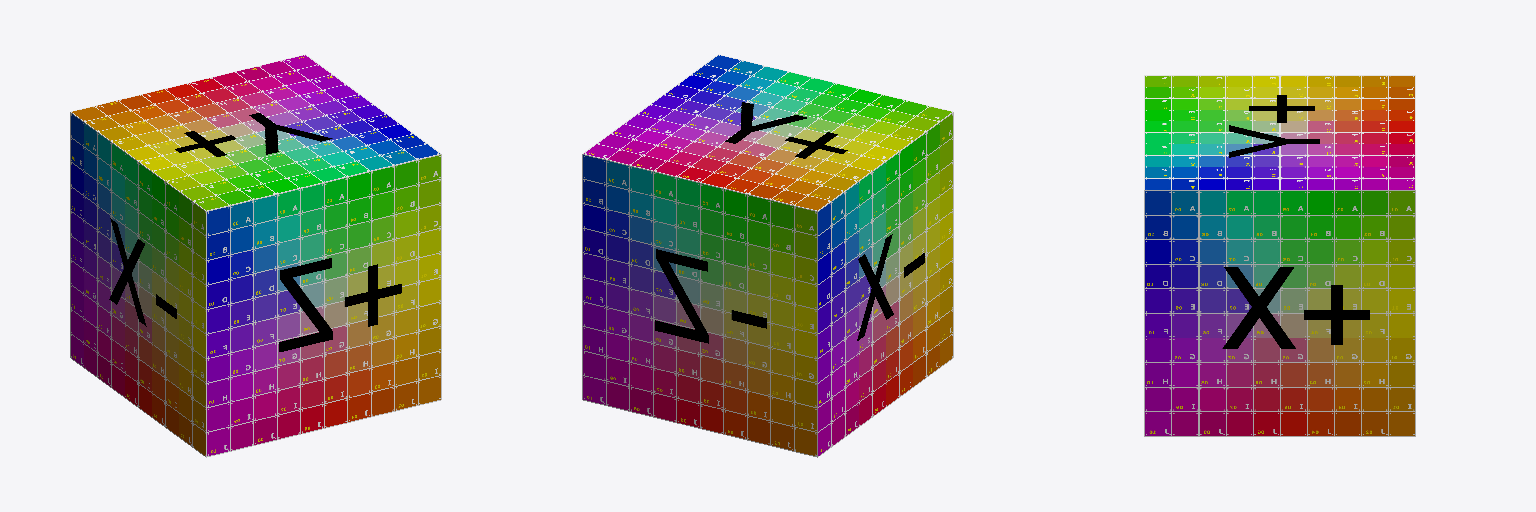
The picture shows the model from 3 angles: view 1: azimuth 30°, elevation 25°; view 2: azimuth 150°, elevation 25°; view 3: azimuth 270°, elevation 25°; orthographic projection.
Parts seen in each view (by area): view 1: BasicCube; view 2: BasicCube; view 3: BasicCube.
Boxes of the visible parts, box(x1,y1,x2,y2) form: BasicCube: box(70, 54, 441, 457); BasicCube: box(582, 54, 953, 457); BasicCube: box(1144, 75, 1415, 436).
Bounding box in the file's own units: 2 × 2 × 2.
Materials: 6 (6 with a texture image).